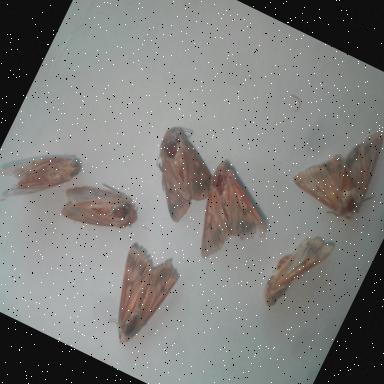abw: (170, 153, 290, 284), (280, 100, 384, 234), (128, 117, 238, 237), (86, 237, 188, 359), (252, 220, 342, 330), (0, 125, 89, 229), (51, 164, 149, 250)
